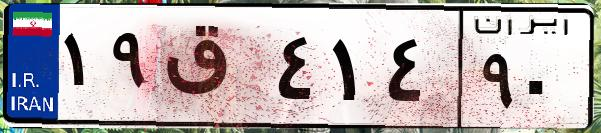0: (525, 38, 570, 115)
1: (330, 28, 385, 110), (57, 26, 110, 100)
4: (270, 28, 330, 110), (385, 28, 445, 110)
9: (475, 38, 525, 113), (110, 28, 158, 98)
ق: (158, 20, 270, 120)
